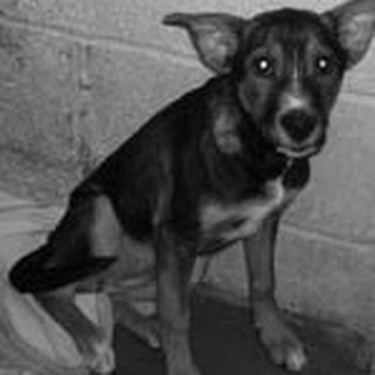dog: (7, 4, 371, 372)
